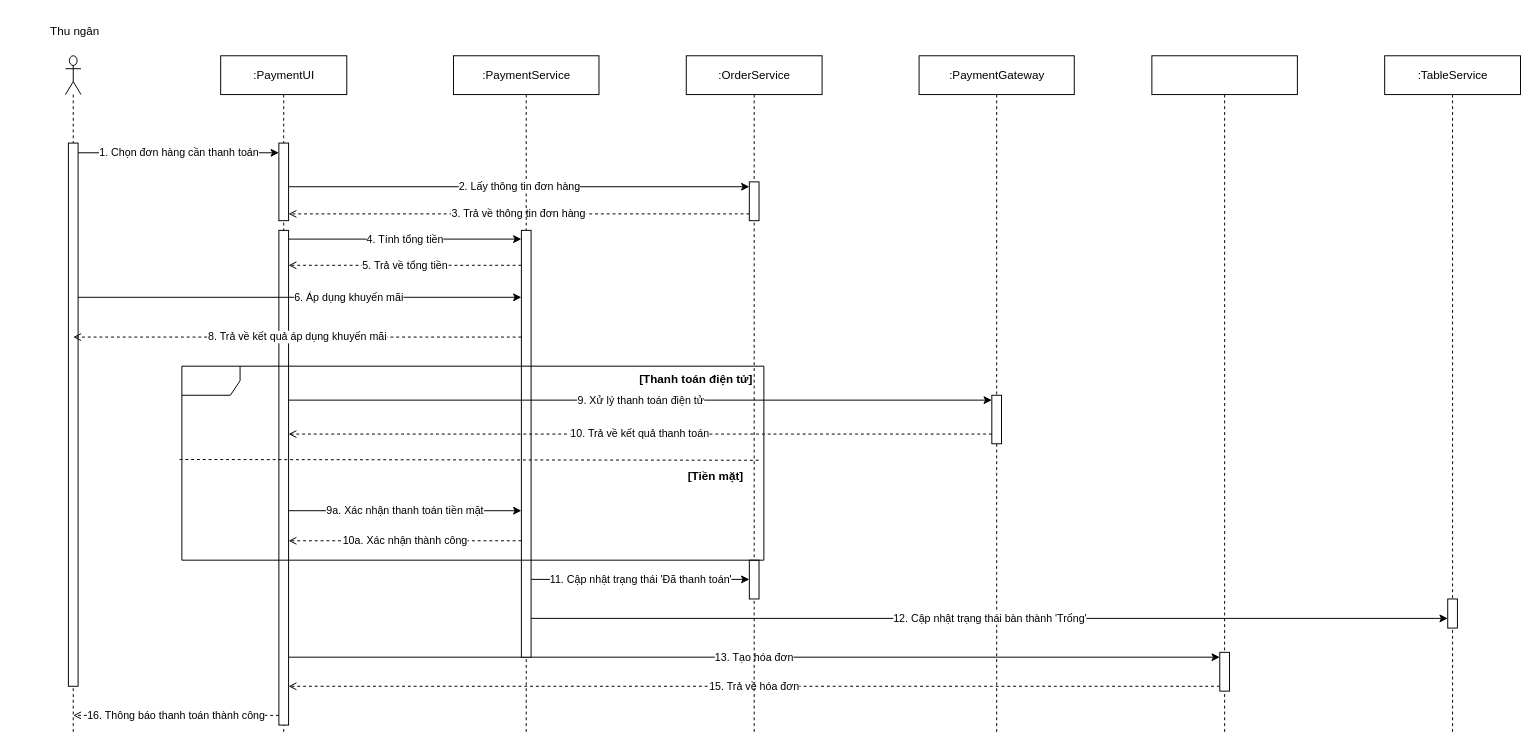
This 1537x752 diagram has some shape labels left out. The shapes that lost their labels are listed below. From the top down, each one's box as (x1, y1, x2, y2) in pixels, then its label:
(1151, 55, 1297, 735): :InvoiceService
(181, 365, 764, 560): alt
